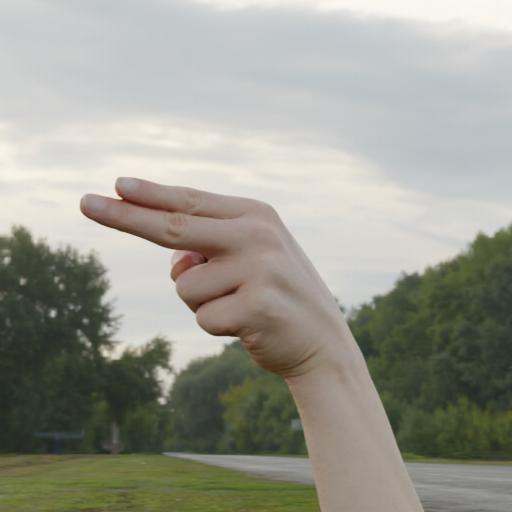H: (69, 162, 378, 390)
